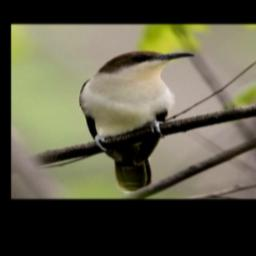Cuckoo: (79, 50, 197, 194)
